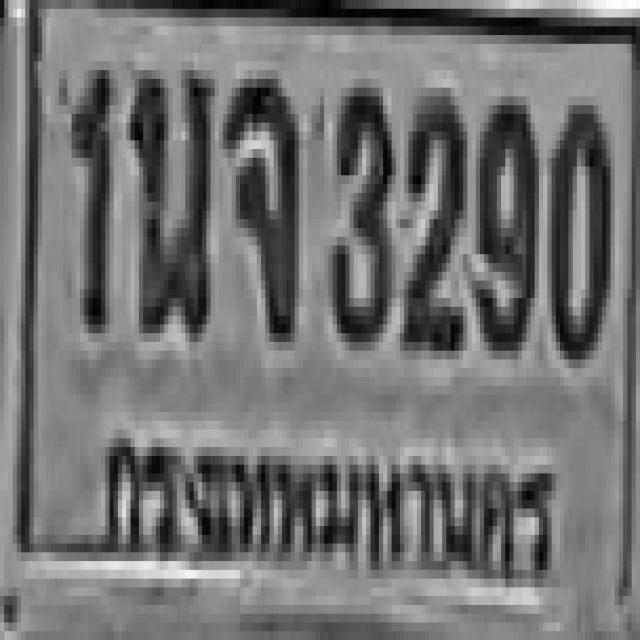0: (548, 101, 606, 355)
1: (68, 62, 110, 324)
17ChorChan: (221, 70, 297, 333)
2: (400, 84, 463, 346)
3: (328, 79, 392, 342)
34NorNu: (128, 62, 208, 334)
9: (472, 87, 534, 350)
Bangkok: (95, 411, 577, 590)
